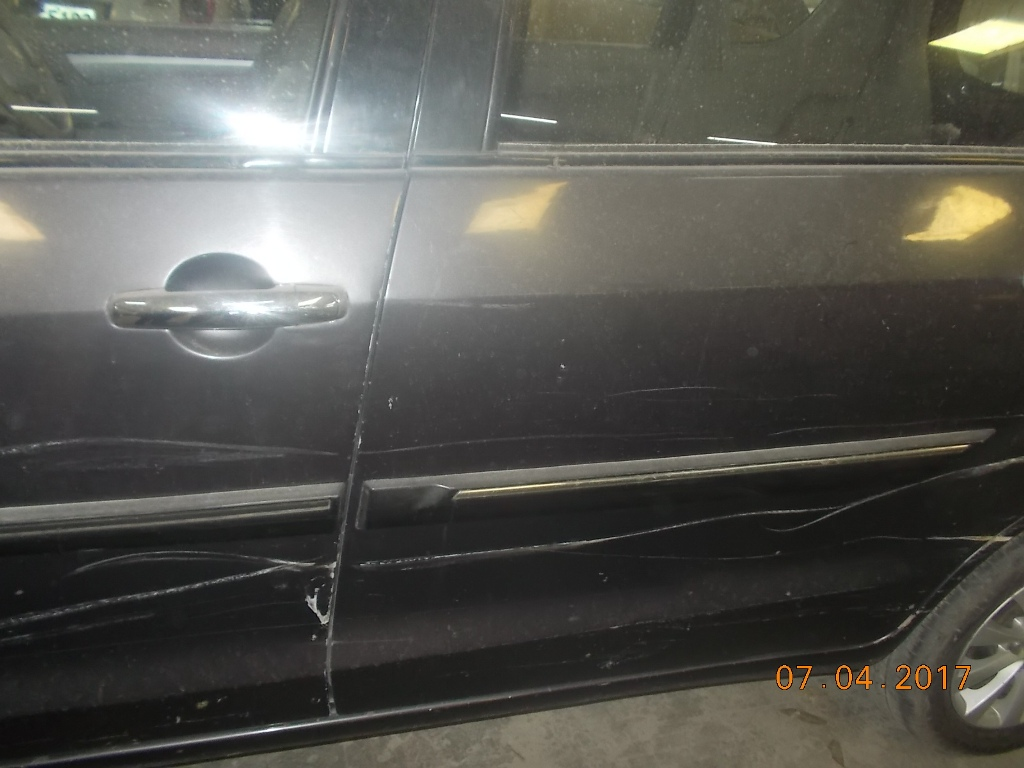Scratch_or_spot: (123, 543, 327, 629), (360, 531, 516, 588), (666, 504, 793, 548), (531, 515, 636, 564)
